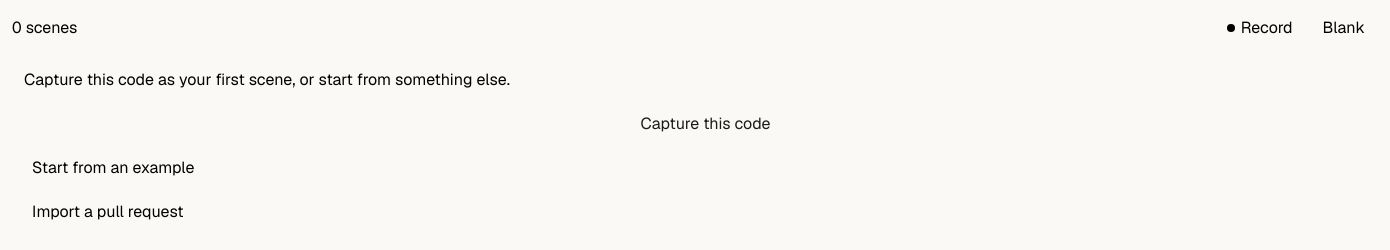
the empty scene list on the phone sheet › captures the code as the first scene, and the fork goes away with it
The image size is (1390, 250).
Click the button "Capture this code": click(695, 124) x1=20 y1=104 x2=1370 y2=144
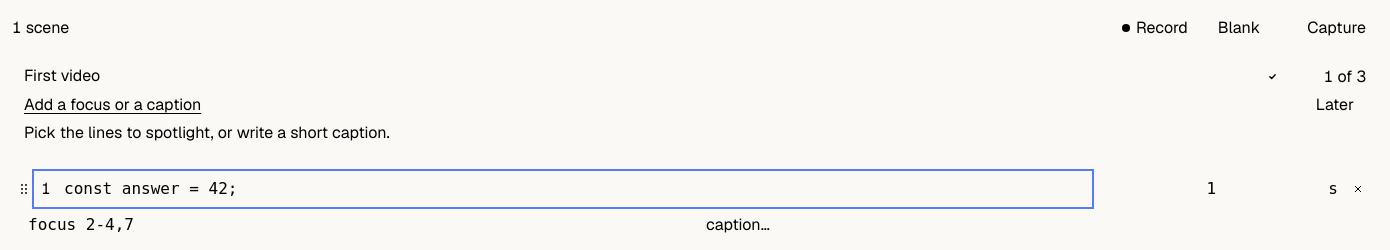
Now the text "first scene" is gone
Now the text "Capture this code" is gone
